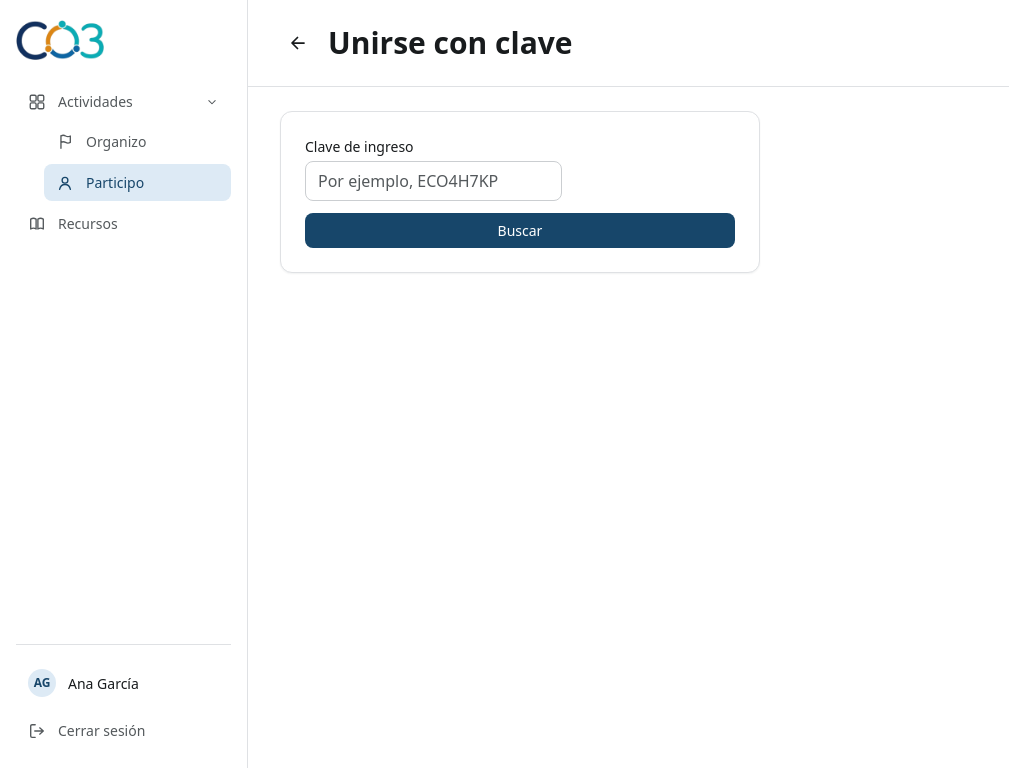
Scenario: PantallaUnirseConClave › muestra la vista previa al encontrar la clave
The image size is (1024, 768).
In the field labelled "Clave de ingreso": (434, 180) [305,160,562,200], type "eco4h7kp"
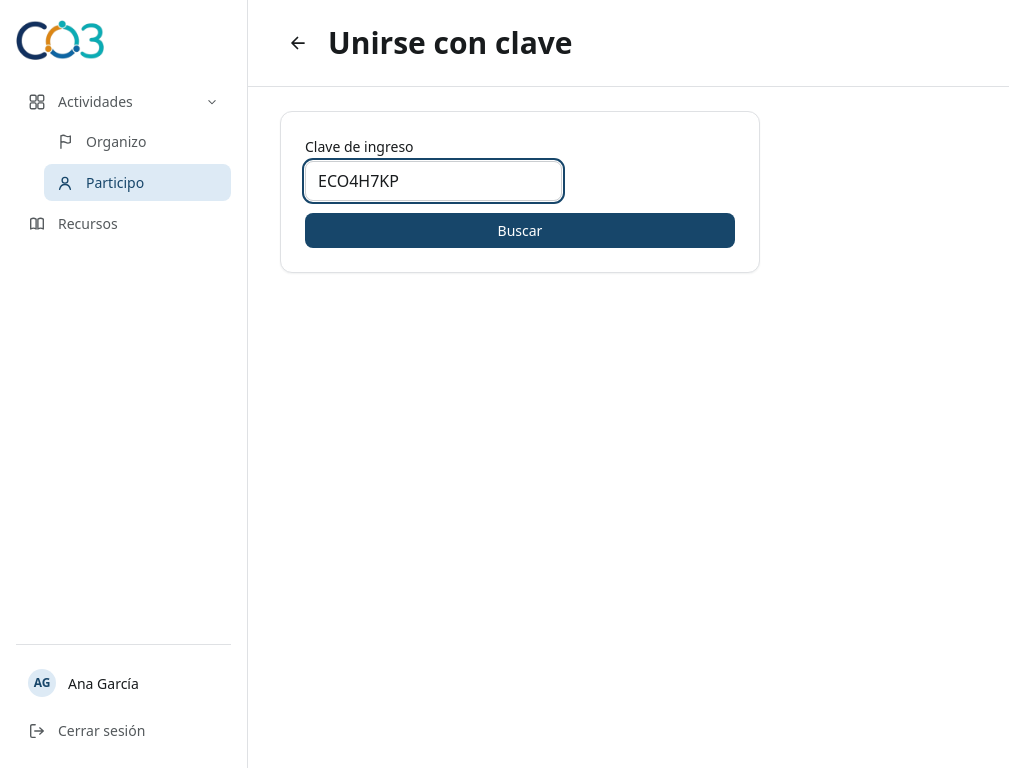
Click the button "Buscar": (520, 230) [305,212,735,248]
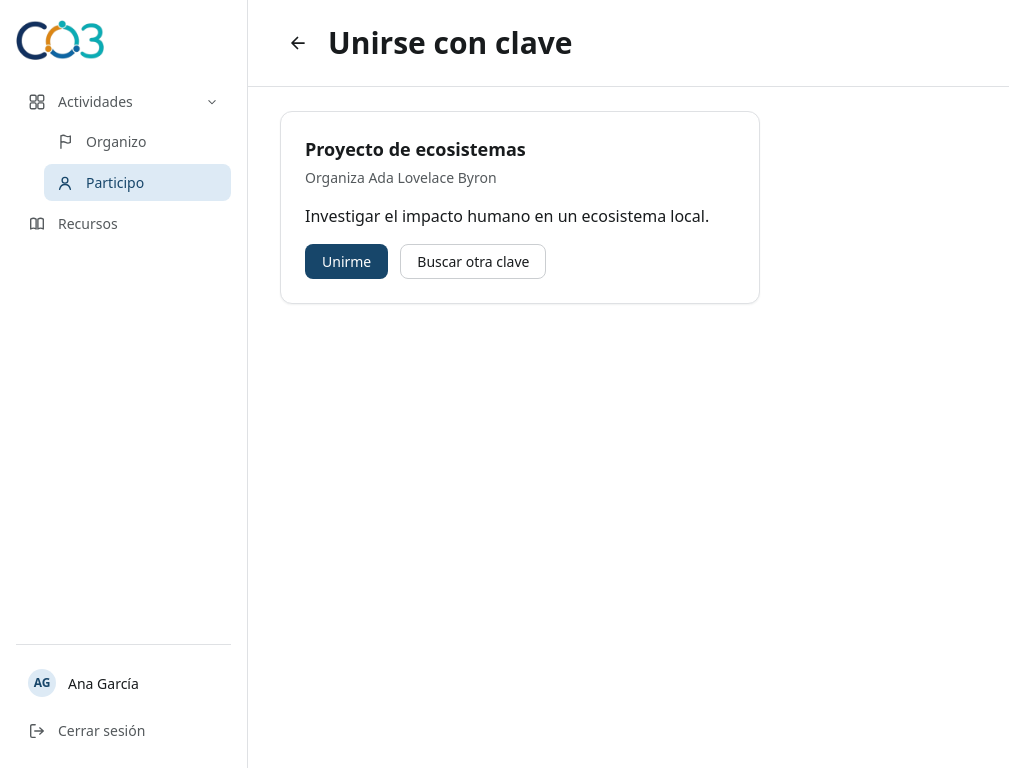
Expected: the heading "Proyecto de ecosistemas" is shown, [305,136,526,160]
Expected: the text "Organiza Ada Lovelace Byron" is shown, [305,168,497,186]
